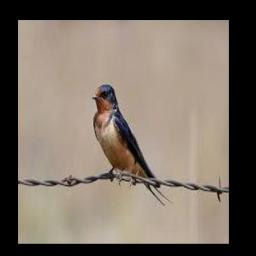Swallow: (91, 85, 173, 204)
